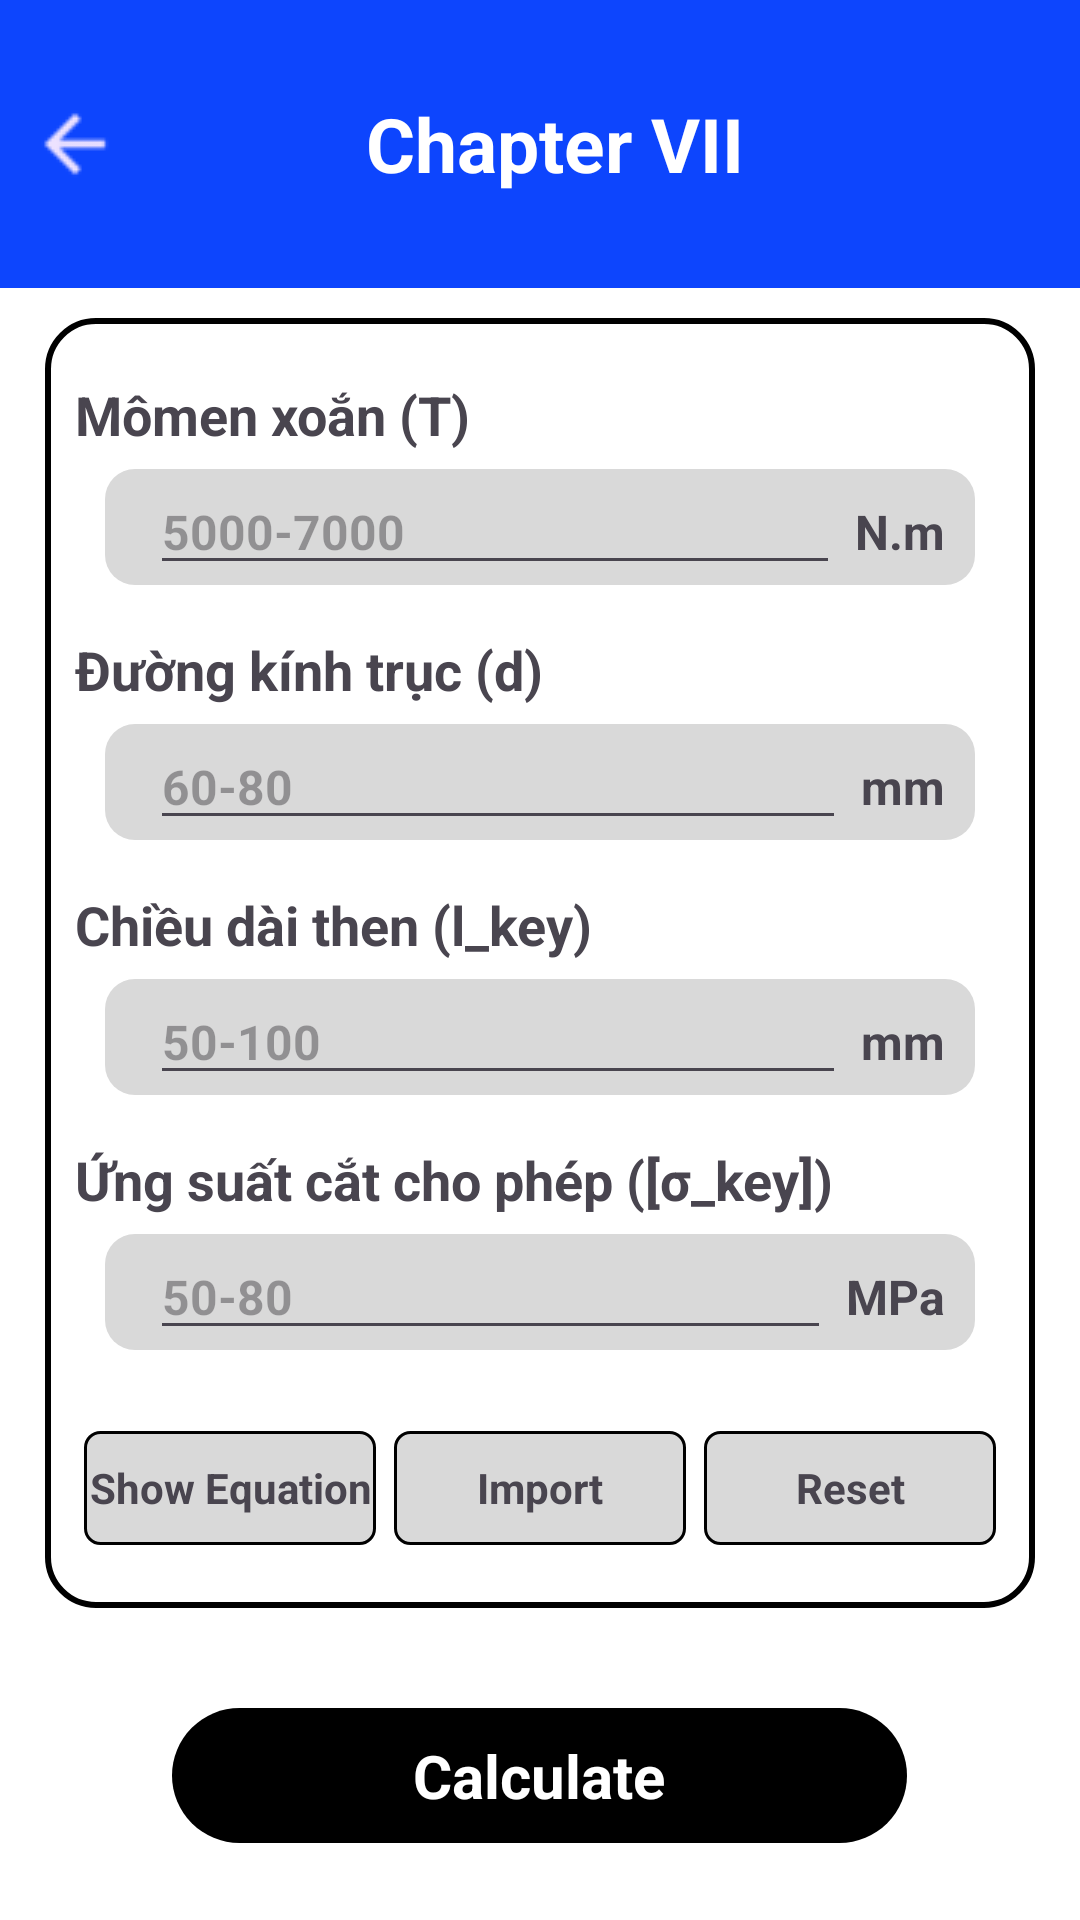

Icons on this 1080x1920 Android screen, each with its box as (x1, y1, x2, y2):
arrow back: (44, 113, 106, 175)
